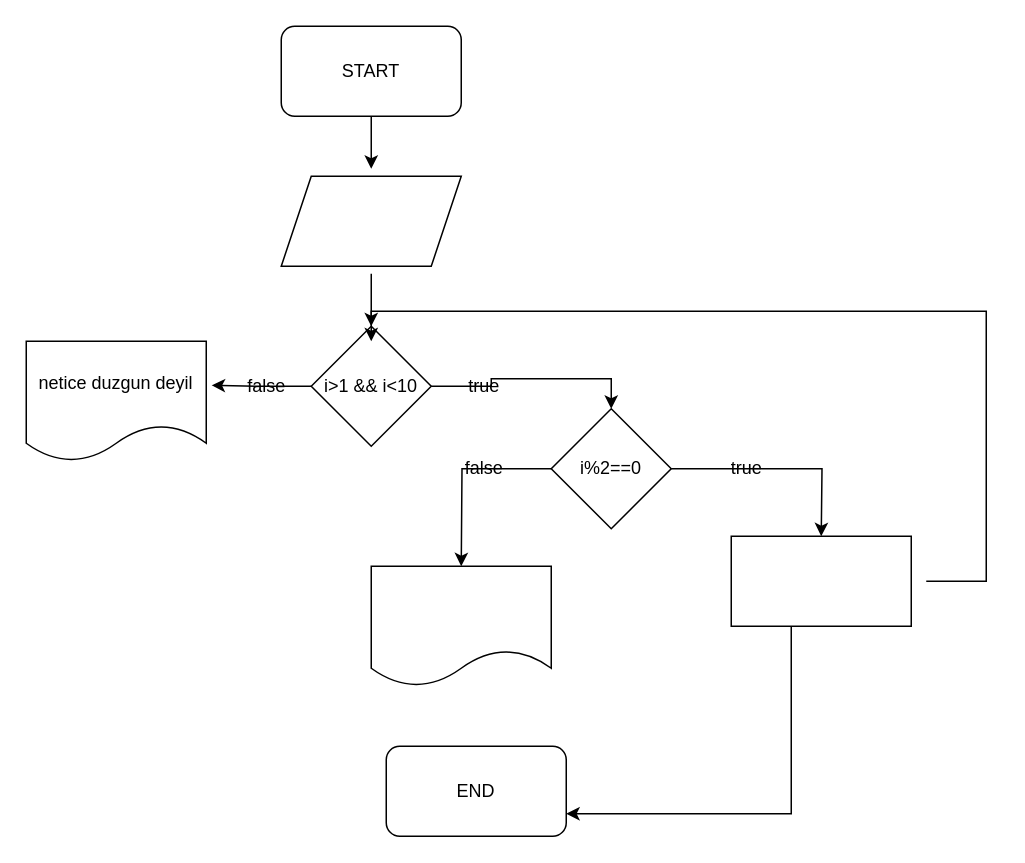
Some shapes in this 1025 by 863 pixel diagram are drawn without their labels. The centre of each missing label's shape, as x and y in pixels:
"cut eded deyil" goes at (460,625).
"i sum count avarage" goes at (370,220).
"sum=sum+i avarage=sum/count" goes at (820,580).
